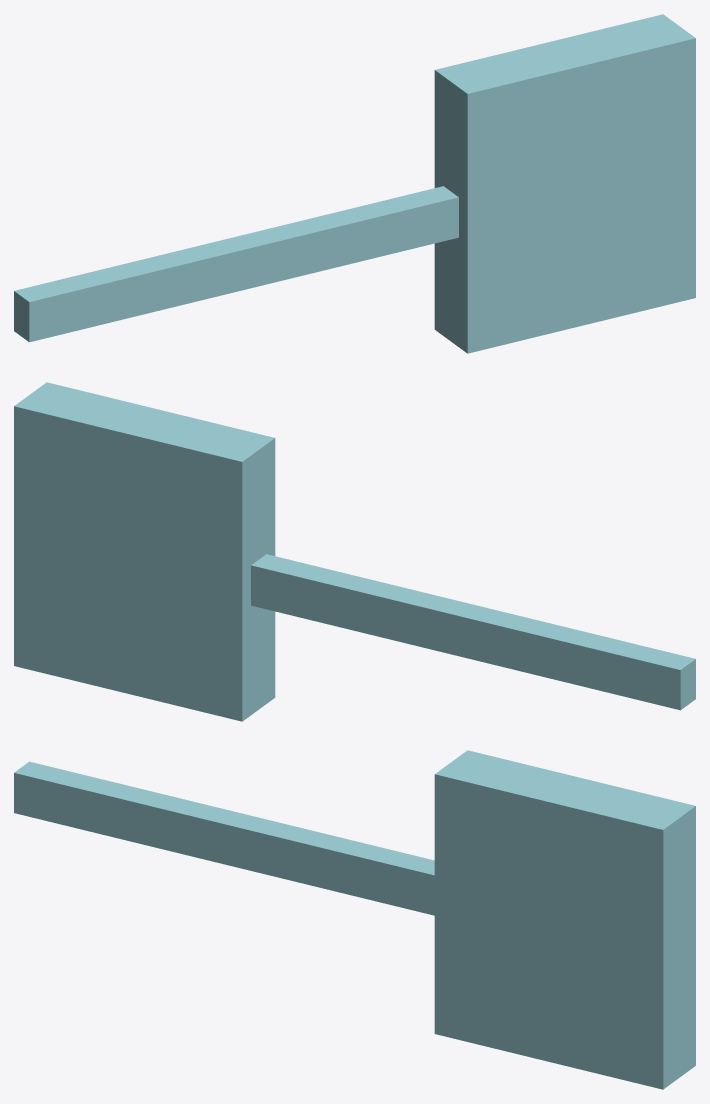
The model's file is cuboid_brush_v10003.obj.
The picture shows the model from 3 angles, top to bottom: view 1: azimuth 30°, elevation 25°; view 2: azimuth 150°, elevation 25°; view 3: azimuth 330°, elevation 25°; orthographic projection.
Bounding box in the file's own units: 0.296 × 0.1117 × 0.0256.
Materials: 1 (1 with a texture image).
